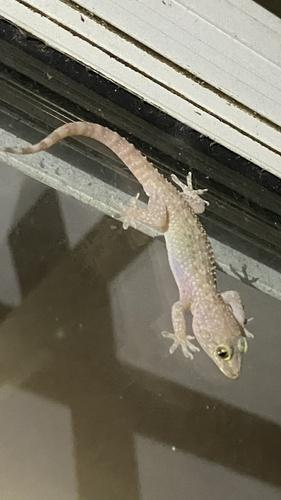lizard: (17, 116, 249, 383)
